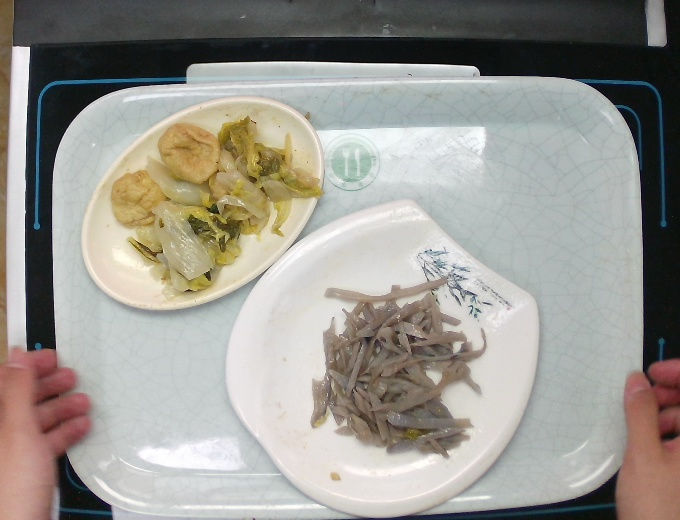JYsf-Mian_Pan: (217, 193, 545, 520)
JYsf-Tuo_Yuan_Wan: (77, 93, 328, 317)
